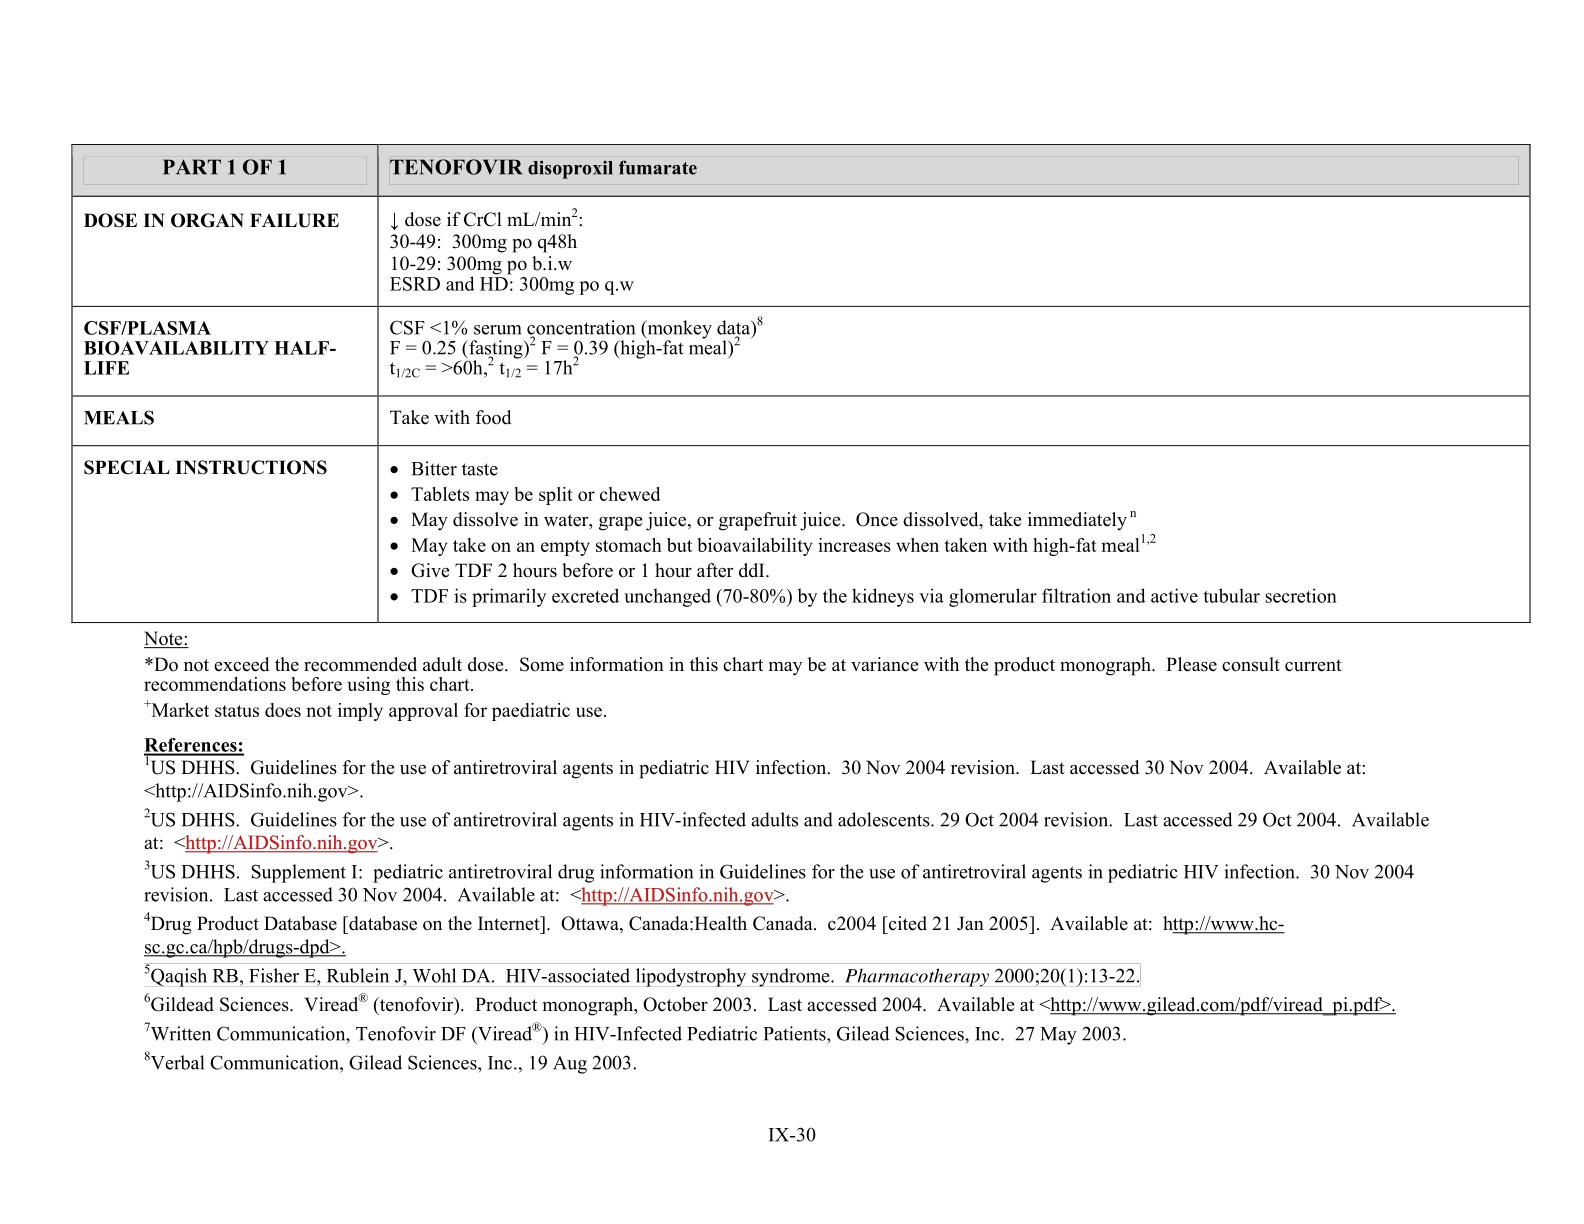full_lined: (69, 143, 1531, 624)
